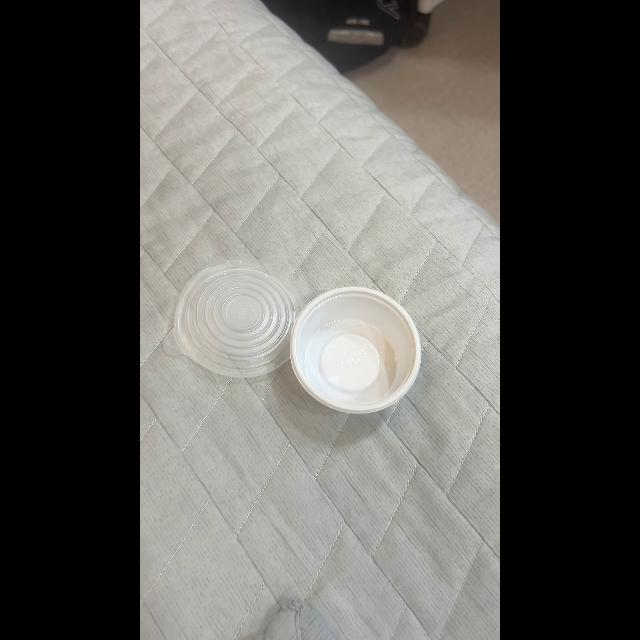clean: (292, 286, 420, 416), (177, 264, 301, 376)
